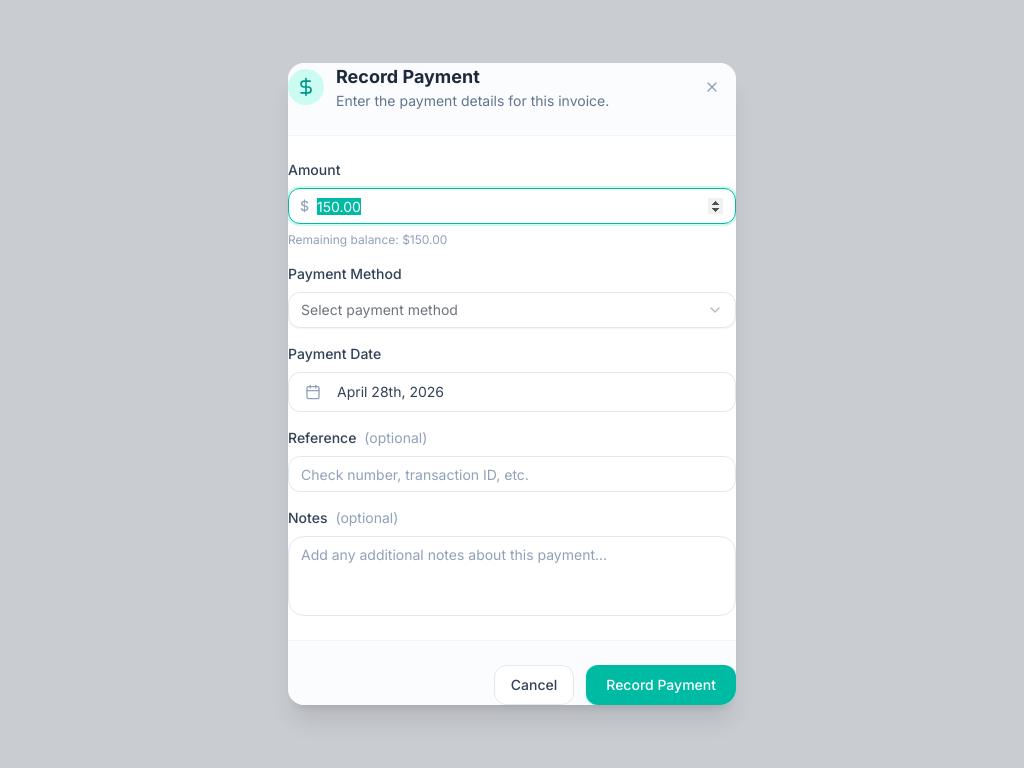
Test: PaymentDialog › shows error when payment method is not selected
The width and height of the screenshot is (1024, 768).
Click the button with test id "submit-payment-btn": (661, 685) [586,665,736,705]
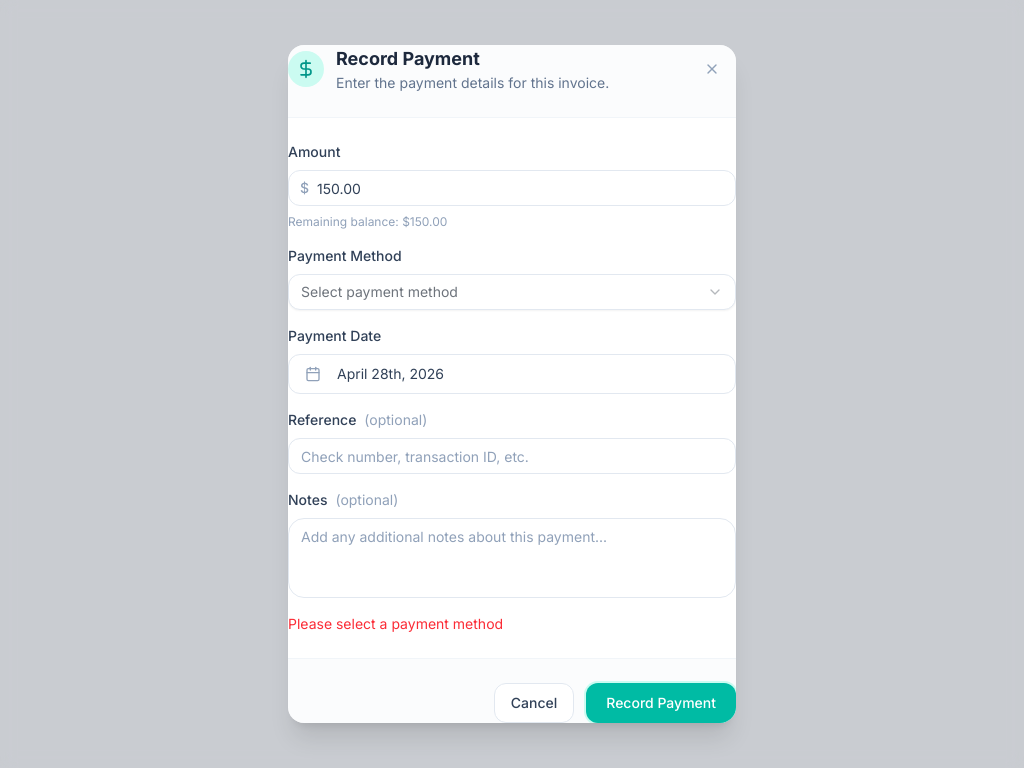
Expected: the text "Please select a payment method" is shown, [288,615,503,632]
